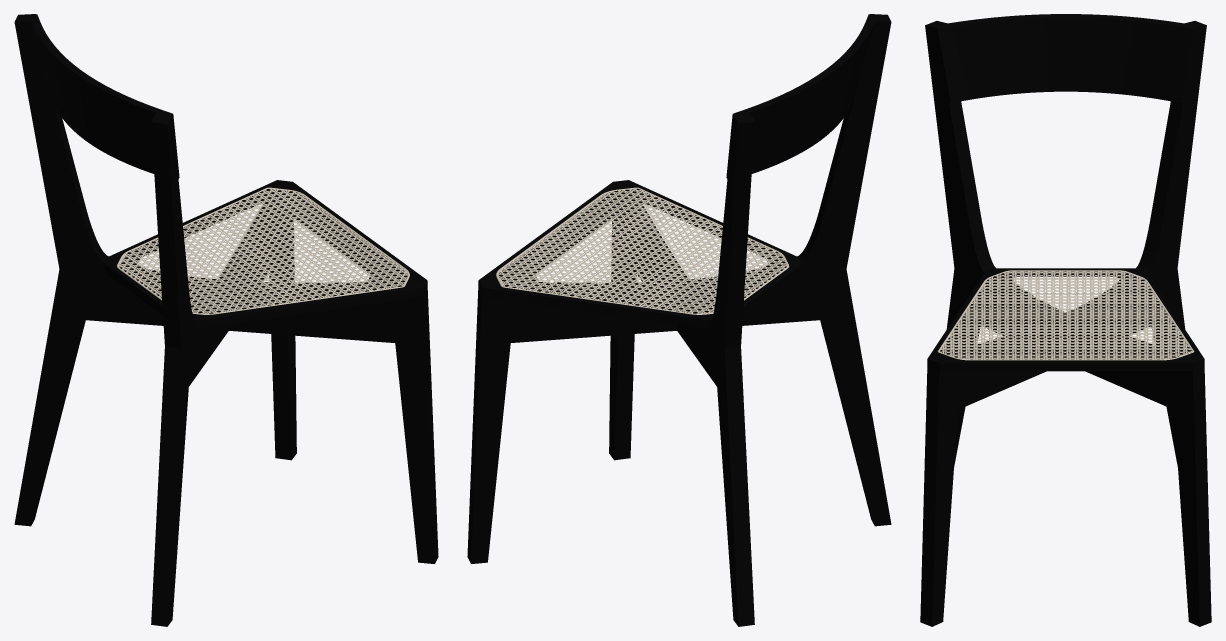
Rendered from asset.glb.
The picture shows the model from 3 angles, left to right: view 1: azimuth 30°, elevation 25°; view 2: azimuth 150°, elevation 25°; view 3: azimuth 270°, elevation 25°; orthographic projection. The views are drawn at different scales.
Parts seen in each view (by area): view 1: GH_Obj (×5); view 2: GH_Obj (×5); view 3: GH_Obj (×7).
Boxes of the visible parts, left/top/right/bottom form: GH_Obj (×5): left=14, top=14, right=438, bottom=626; GH_Obj (×5): left=467, top=14, right=891, bottom=626; GH_Obj (×7): left=920, top=14, right=1211, bottom=626.
Bounding box in the file's own units: 497 × 814 × 450.
